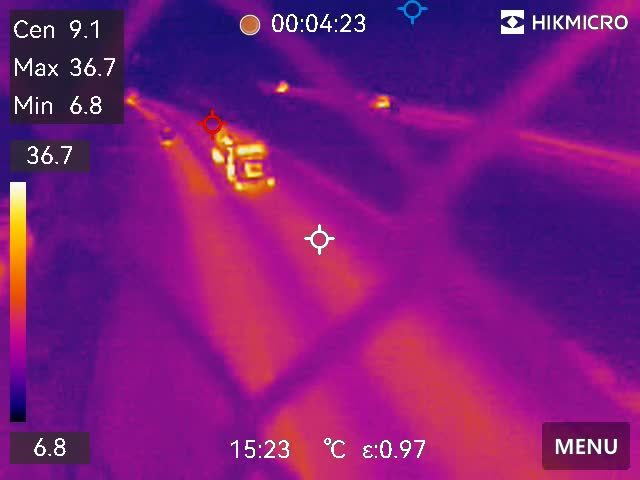heavyTruck: (205, 119, 281, 198)
